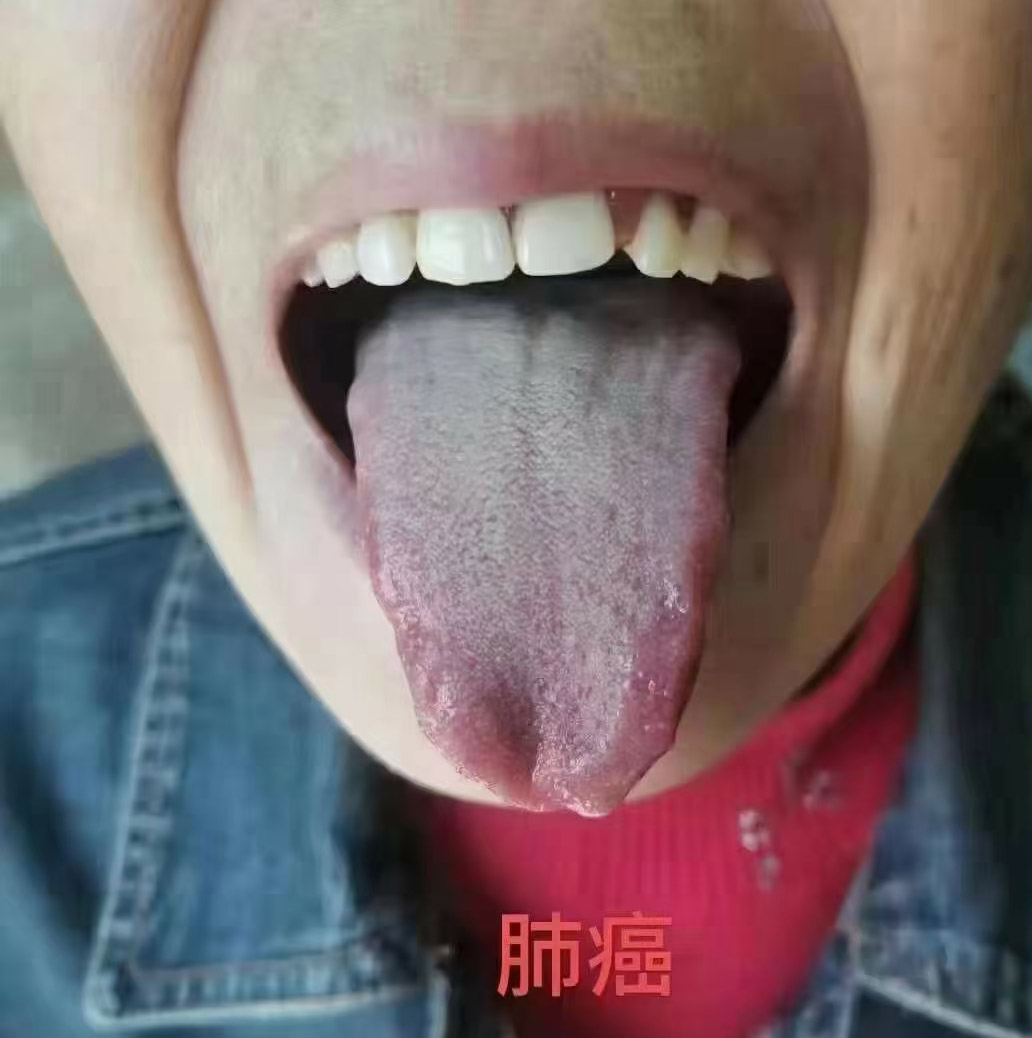baitaishe: (345, 283, 741, 820)
